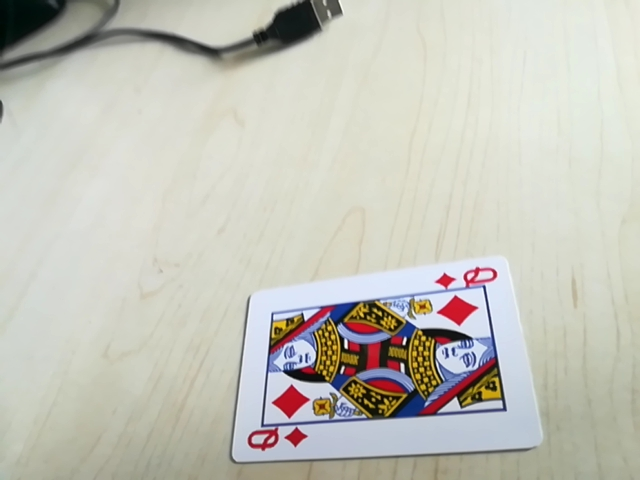fk q: (242, 423, 309, 458), (431, 261, 499, 294)
